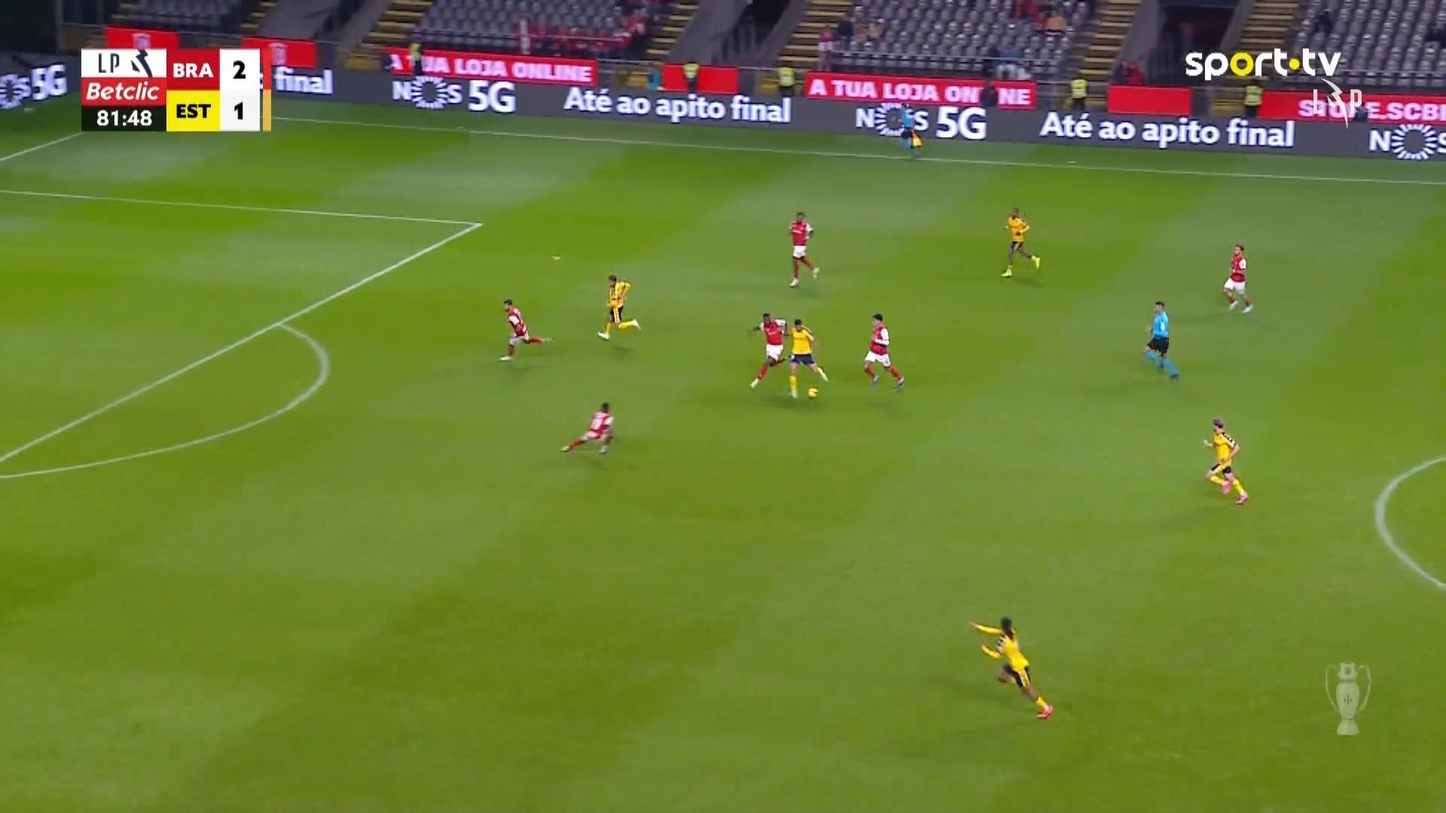ball: (807, 386, 818, 398)
player: (968, 615, 1054, 720), (1202, 416, 1249, 504), (497, 297, 552, 361), (862, 312, 905, 391), (786, 318, 828, 398), (748, 311, 788, 389), (560, 400, 615, 455), (999, 206, 1041, 278), (596, 273, 641, 340), (787, 211, 819, 287), (1222, 242, 1253, 312)
referee: (1142, 300, 1179, 379), (898, 102, 924, 158)
